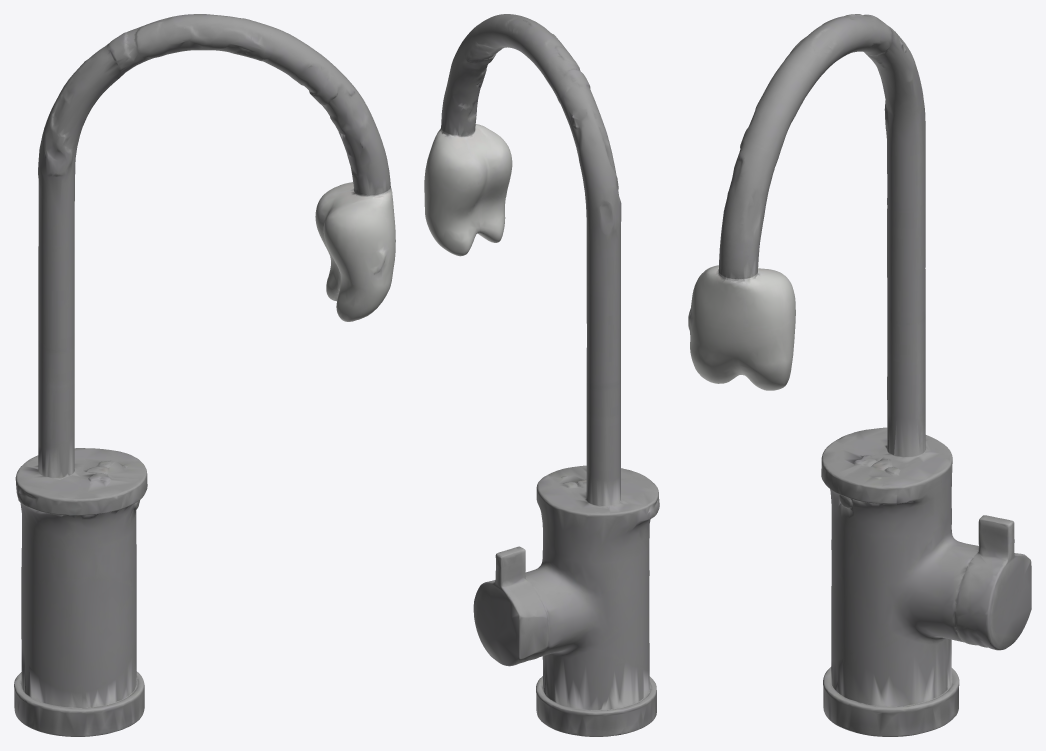
The model's file is faucet.glb.
3 renders of one model, left to right at view 1: azimuth 30°, elevation 25°; view 2: azimuth 150°, elevation 25°; view 3: azimuth 270°, elevation 25°, orthographic. The views are drawn at different scales.
Visible parts, largest first — view 1: tripo_node_ad0e2244-70c0-4de8-b9db-192a85b396ca; view 2: tripo_node_ad0e2244-70c0-4de8-b9db-192a85b396ca; view 3: tripo_node_ad0e2244-70c0-4de8-b9db-192a85b396ca.
Part boxes in pixels (x1,y1,x2,y2): tripo_node_ad0e2244-70c0-4de8-b9db-192a85b396ca: (14, 14, 395, 736); tripo_node_ad0e2244-70c0-4de8-b9db-192a85b396ca: (424, 14, 659, 736); tripo_node_ad0e2244-70c0-4de8-b9db-192a85b396ca: (688, 14, 1031, 736).
Size of the model in its own units: 0.456 by 1 by 0.4257.
1 material, 1 textured.
